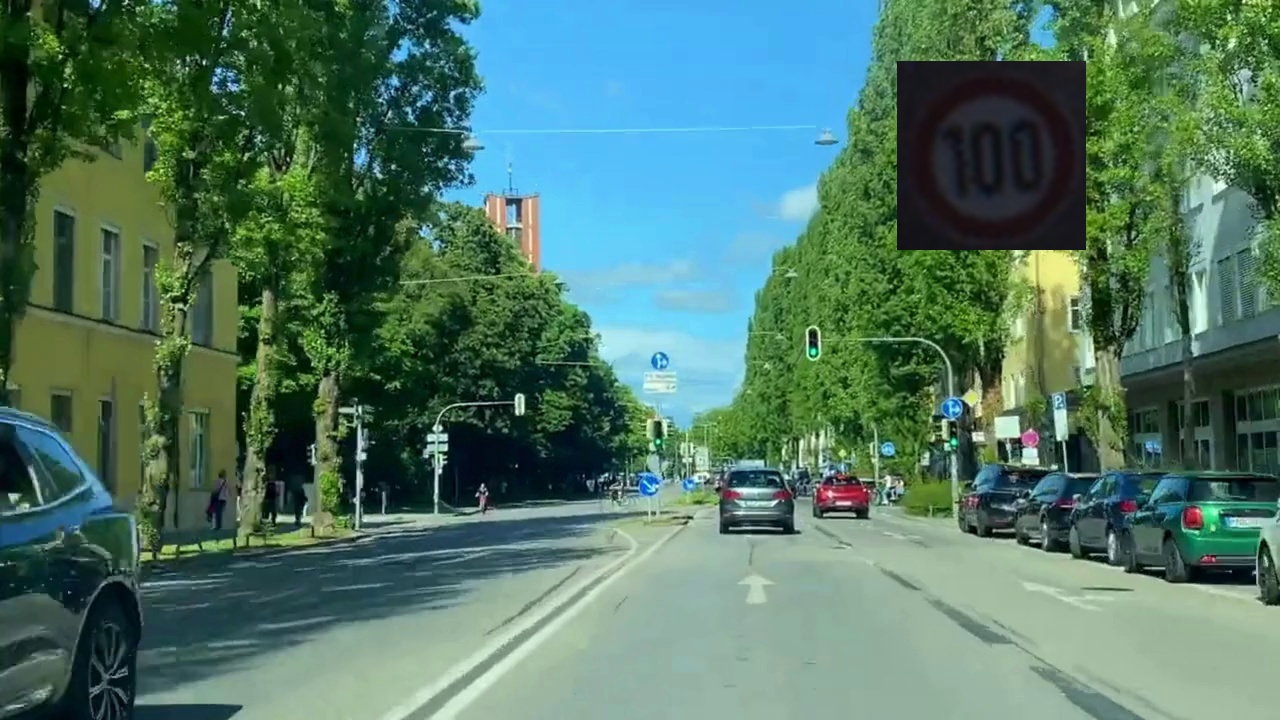Speed 100: (897, 61, 1086, 250)
